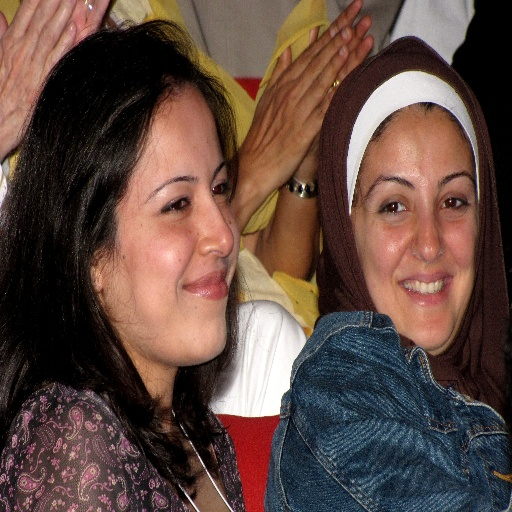hand: (0, 0, 75, 158), (307, 0, 374, 161), (70, 0, 110, 43)
